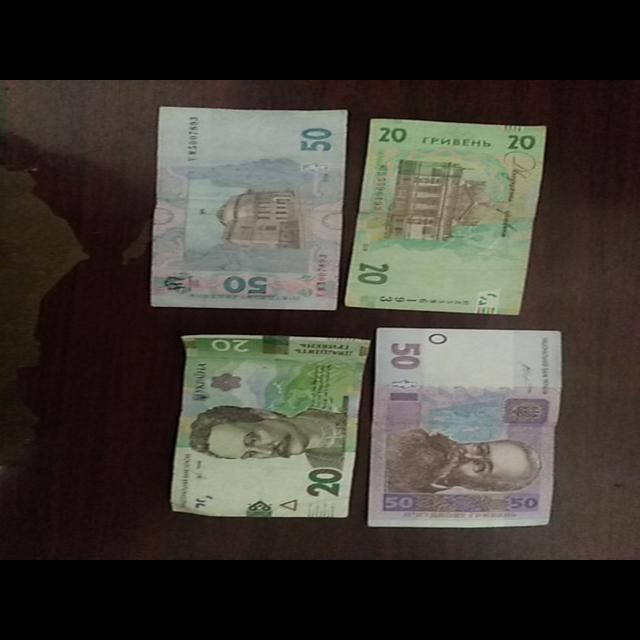20uah: (347, 108, 548, 318), (157, 334, 371, 526)
50uah: (147, 100, 341, 314), (375, 328, 561, 532)
